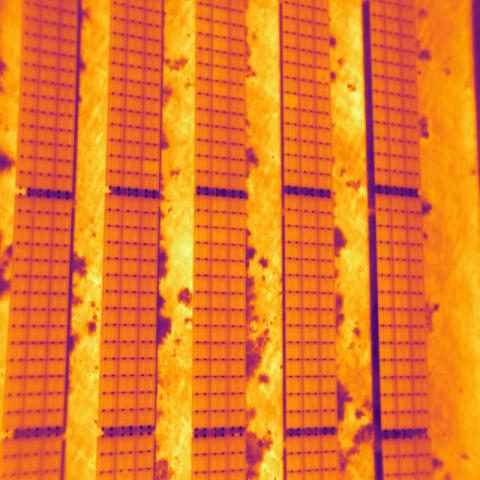fault: (316, 66, 331, 82), (284, 93, 299, 109)
